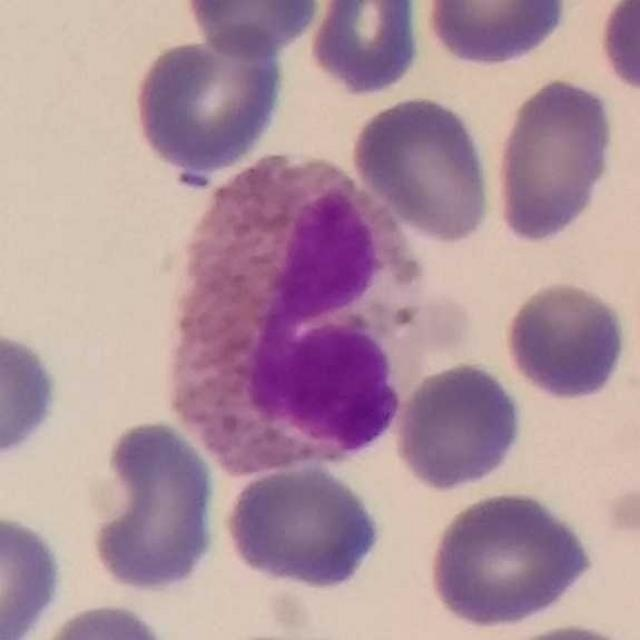Eosinophil: (144, 147, 444, 481)
RBC: (418, 480, 593, 626), (86, 415, 222, 598), (128, 30, 288, 178), (490, 73, 620, 250), (348, 91, 497, 245), (219, 460, 390, 593), (390, 358, 528, 496), (499, 277, 632, 405), (306, 0, 425, 99), (420, 0, 573, 70), (0, 325, 62, 469), (0, 511, 68, 639), (179, 0, 325, 58), (26, 600, 178, 640), (594, 1, 640, 98), (487, 619, 638, 640)
